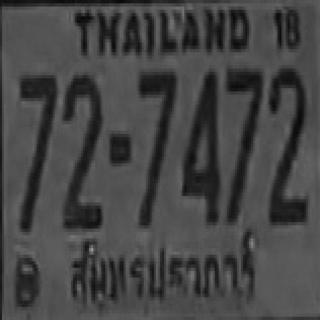N02: (267, 65, 306, 222), (61, 72, 101, 225)
N04: (180, 68, 219, 222)
N07: (18, 72, 55, 229), (225, 65, 261, 222), (138, 69, 174, 225)
P57: (57, 234, 265, 311)
